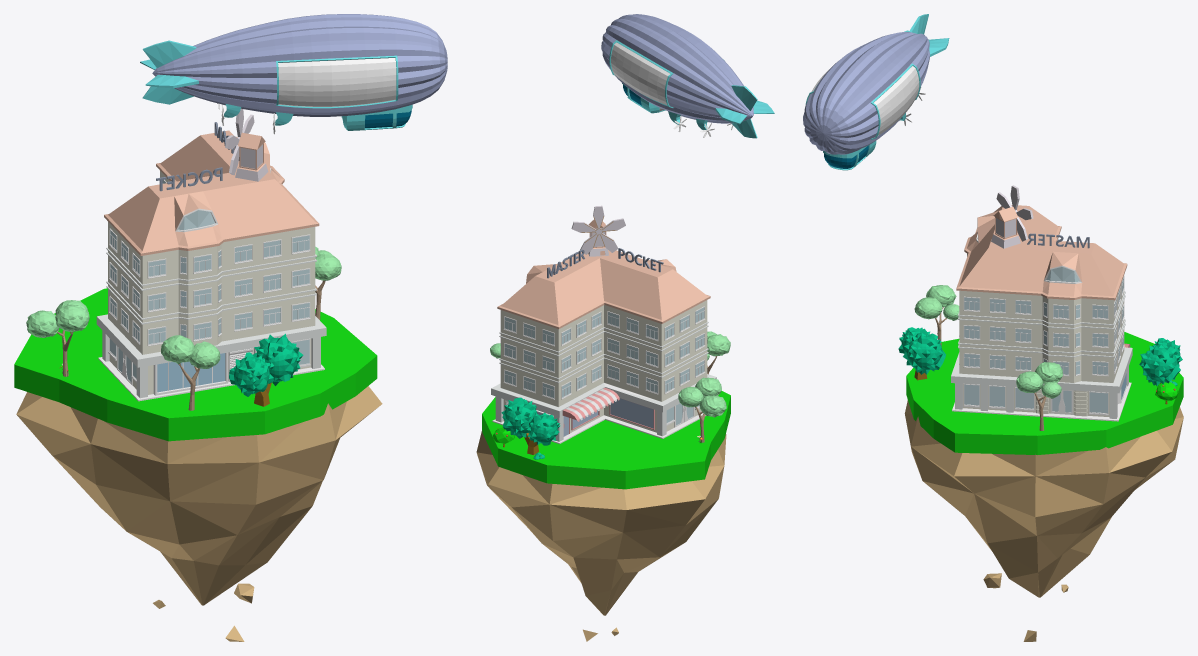
3 views of the same model, side by side, from view 1: azimuth 30°, elevation 25°; view 2: azimuth 150°, elevation 25°; view 3: azimuth 270°, elevation 25° (orthographic). The views are drawn at different scales.
Parts seen in each view (by area): view 1: low_poly_all; view 2: low_poly_all; view 3: low_poly_all.
Boxes of the visible parts, <box> form: low_poly_all: <box>14,14,447,641</box>; low_poly_all: <box>476,14,774,641</box>; low_poly_all: <box>803,14,1183,641</box>.
Size of the model in its own units: 213 by 473 by 280.
